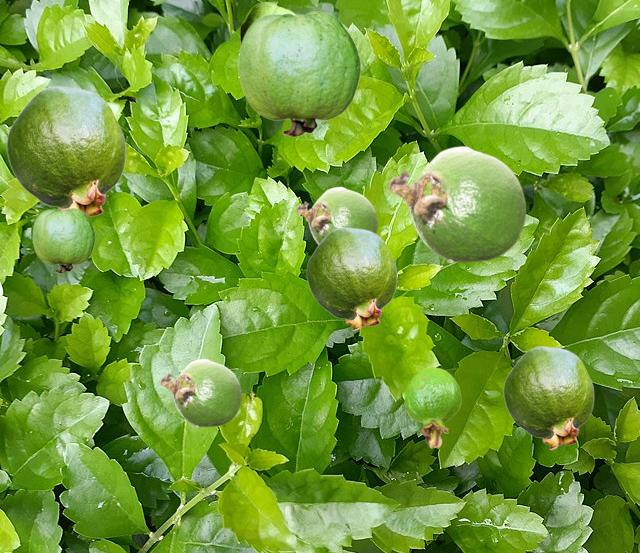guava: (388, 145, 526, 262), (6, 86, 125, 217), (238, 11, 360, 136), (306, 227, 396, 330), (503, 346, 593, 449), (160, 358, 241, 426), (296, 186, 377, 244), (404, 367, 460, 447), (32, 208, 94, 272), (240, 2, 295, 43)
